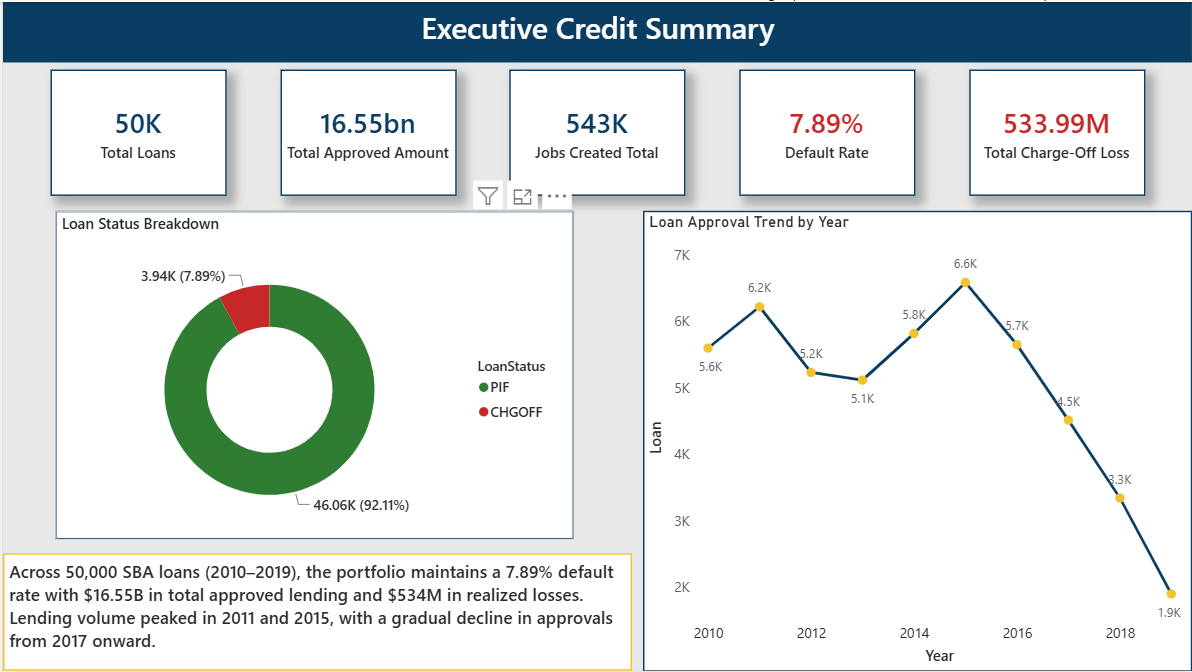

Layout of this report page (visuals, bound fields, positions):
{"tool":"powerbi","page":{"name":"Executive Credit Summary","canvas":[1280,720],"ordinal":0},"visuals":[{"type":"cardVisual","fields":{"Data":["sba_loans.Total Loans"]},"box":[51.4,73,189.5,136.4],"z":0},{"type":"cardVisual","fields":{"Data":["sba_loans.Total Charge-Off Loss"]},"box":[1038.9,73.3,189.5,136.4],"z":1000},{"type":"cardVisual","fields":{"Data":["sba_loans.Default Rate"]},"box":[792,73,189.5,136.4],"z":2000},{"type":"cardVisual","fields":{"Data":["sba_loans.Jobs Created Total"]},"box":[545.2,73,189.5,136.4],"z":3000},{"type":"cardVisual","fields":{"Data":["sba_loans.Total Approved Amount"]},"box":[298.3,73,189.5,136.4],"z":4000},{"type":"textbox","box":[0,0,1280.3,64.7],"z":5000},{"type":"lineChart","title":"Loan Approval Trend by Year","fields":{"Category":["sba_loans.ApprovalFiscalYear"],"Y":["sba_loans.Total Loans"]},"box":[688.3,224.2,592,495.7],"z":6000},{"type":"donutChart","title":"Loan Status Breakdown","fields":{"Y":["sba_loans.Total Loans"],"Category":["sba_loans.LoanStatus"]},"box":[56,224.2,557.5,353.5],"z":7000},{"type":"textbox","box":[0,593.4,676.8,126.4],"z":8000}]}

Visuals, with their boxes in screenshot pixels (x1, y1, x2, y2), scaled from the page's 1280x720 canvas onto the 1192x672 screenshot:
cardVisual - sba_loans.Total Loans: Rect(48, 68, 224, 195)
cardVisual - sba_loans.Total Charge-Off Loss: Rect(967, 68, 1144, 196)
cardVisual - sba_loans.Default Rate: Rect(738, 68, 914, 195)
cardVisual - sba_loans.Jobs Created Total: Rect(508, 68, 684, 195)
cardVisual - sba_loans.Total Approved Amount: Rect(278, 68, 454, 195)
textbox: Rect(0, 0, 1191, 60)
"Loan Approval Trend by Year" lineChart: Rect(641, 209, 1191, 671)
"Loan Status Breakdown" donutChart: Rect(52, 209, 571, 539)
textbox: Rect(0, 554, 630, 671)
